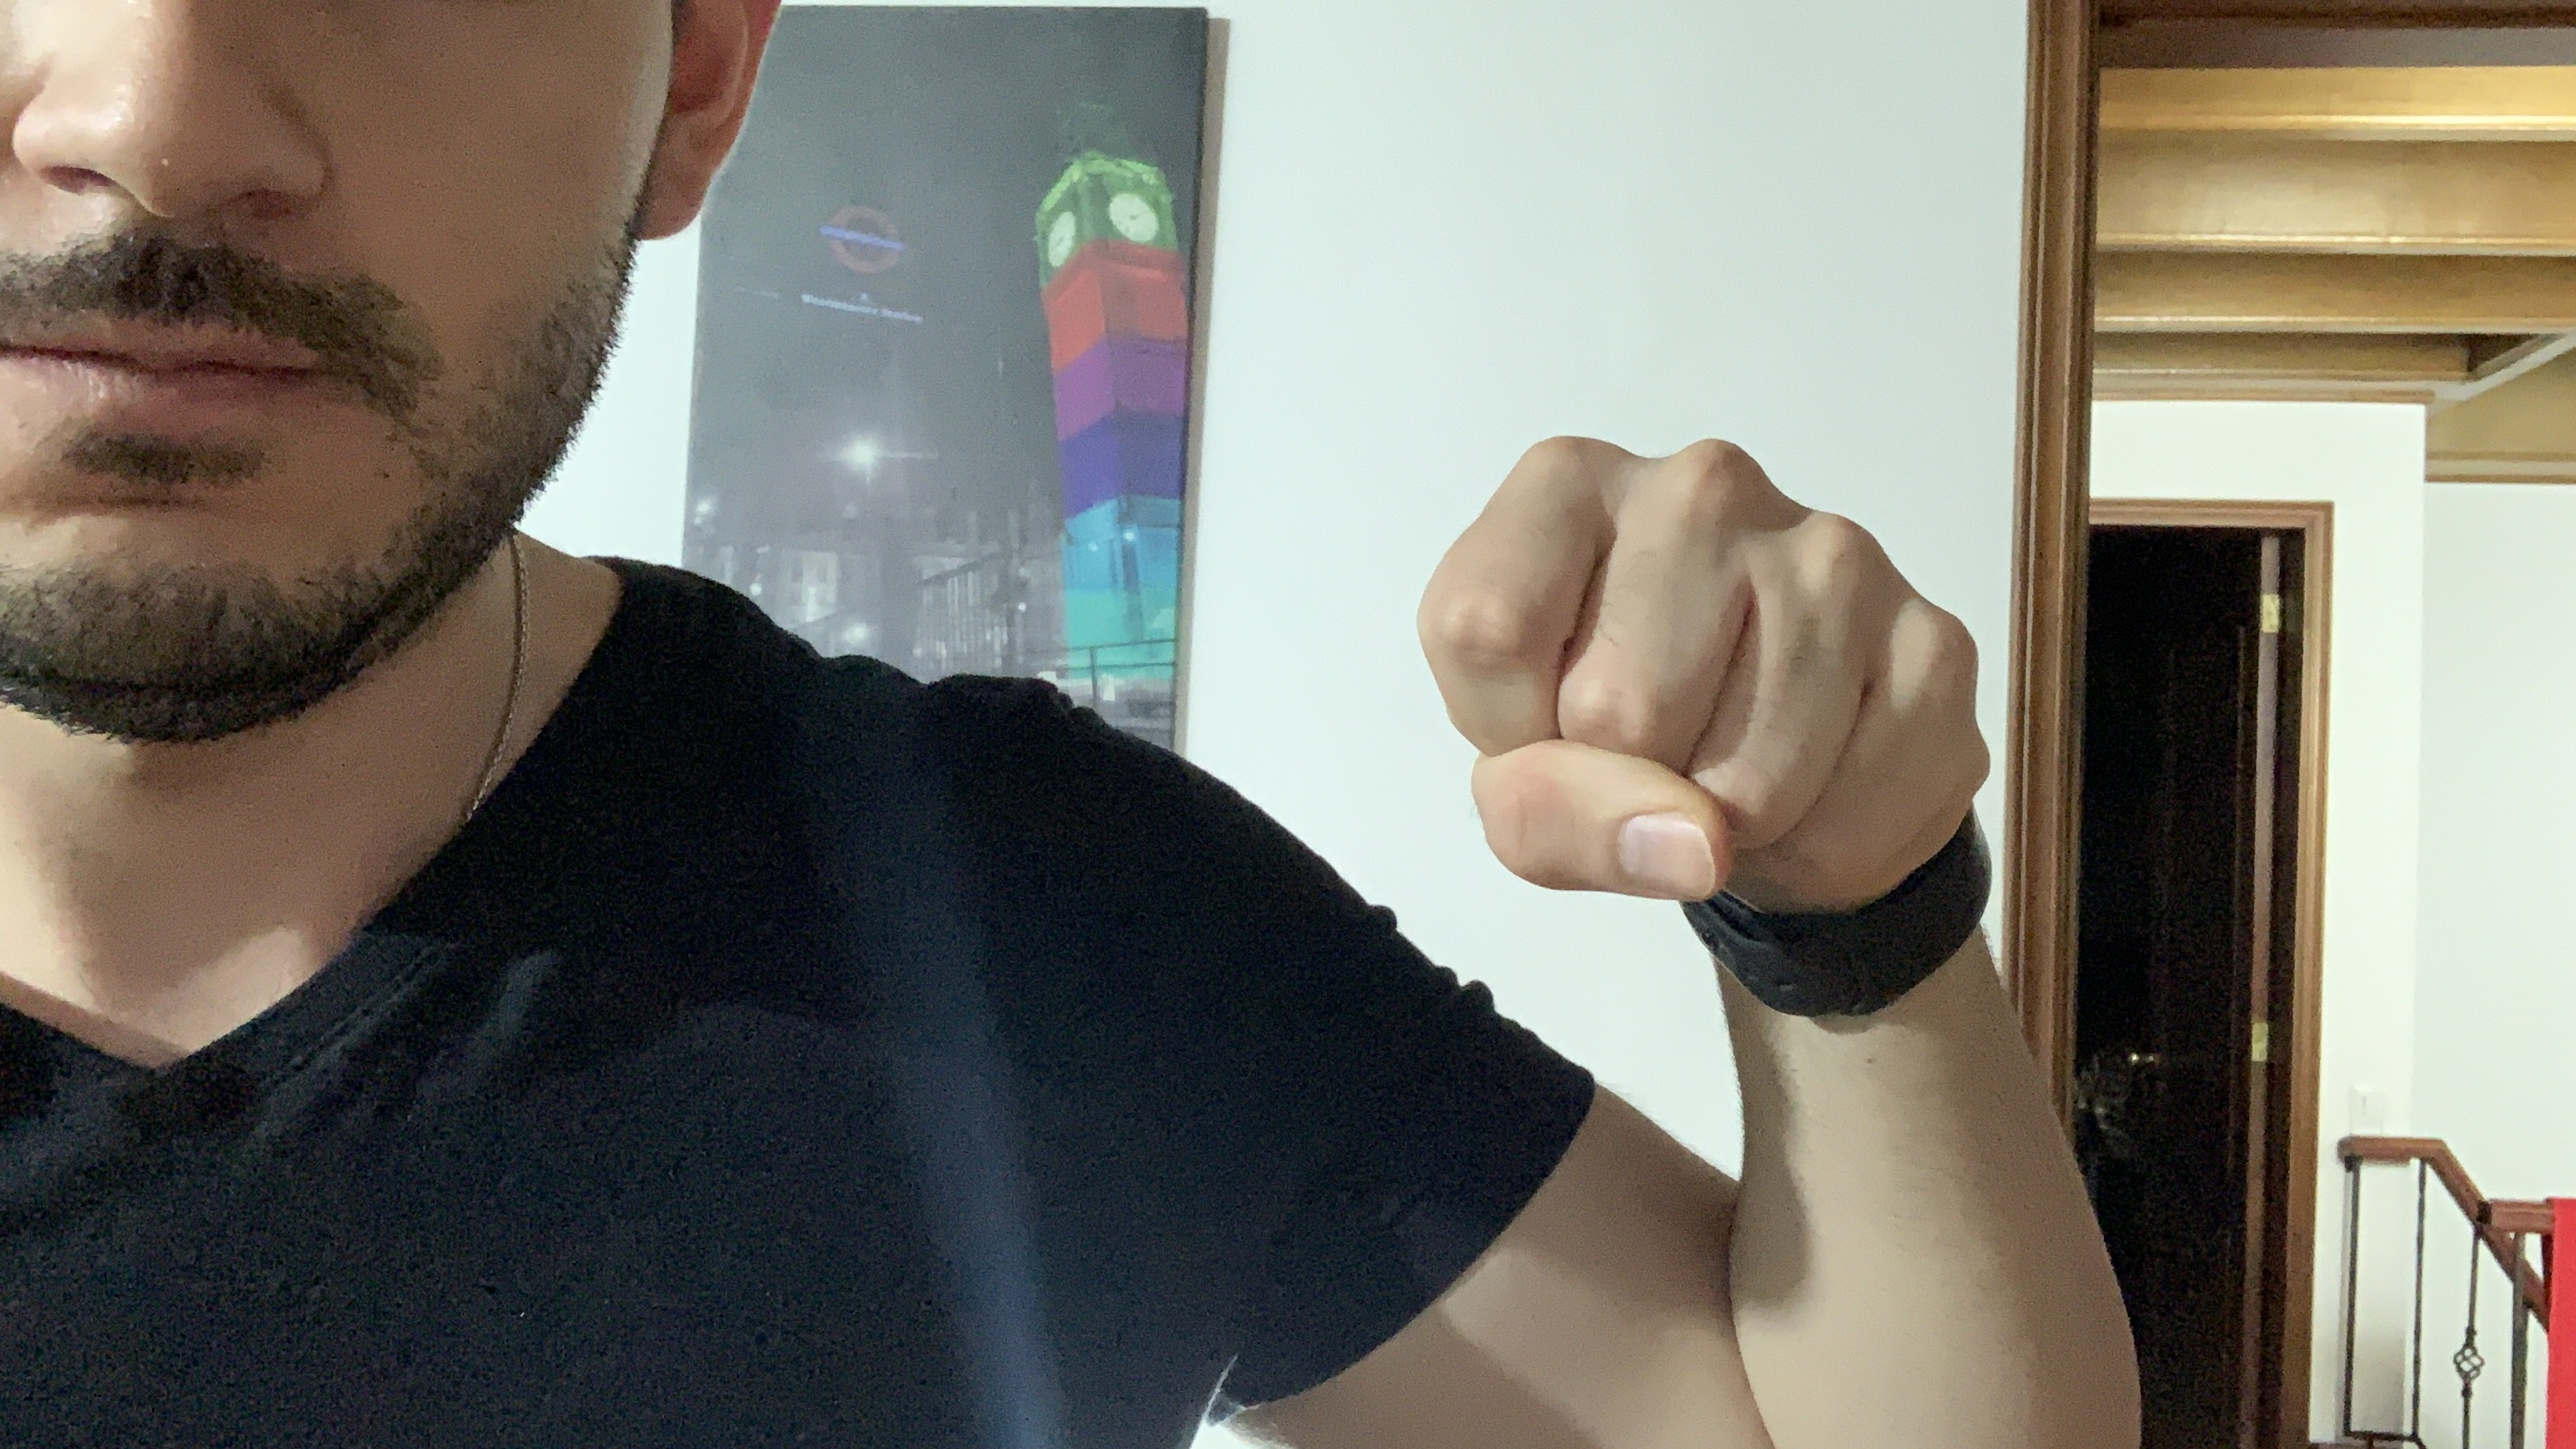Yes: (1392, 425, 2029, 927)
